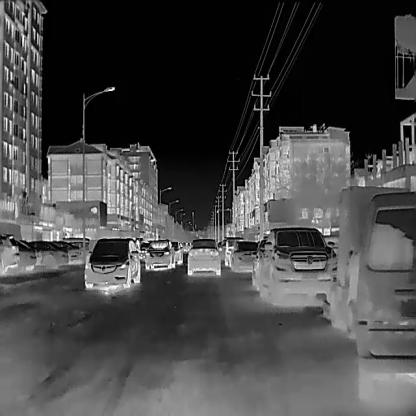car: (350, 190, 416, 371), (249, 228, 337, 303), (84, 235, 140, 288), (24, 242, 67, 271), (187, 239, 221, 274), (229, 240, 260, 274), (145, 238, 172, 269), (0, 234, 19, 274), (15, 239, 36, 270), (170, 240, 183, 264), (137, 240, 150, 258)
